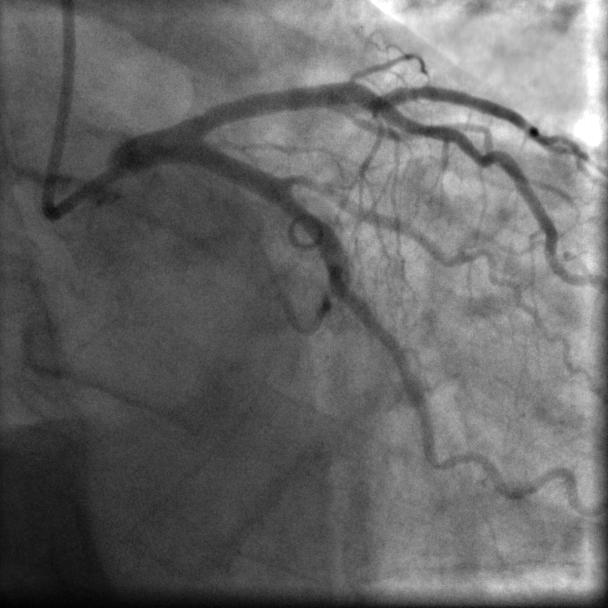Stenosis: (276, 164, 322, 201)
